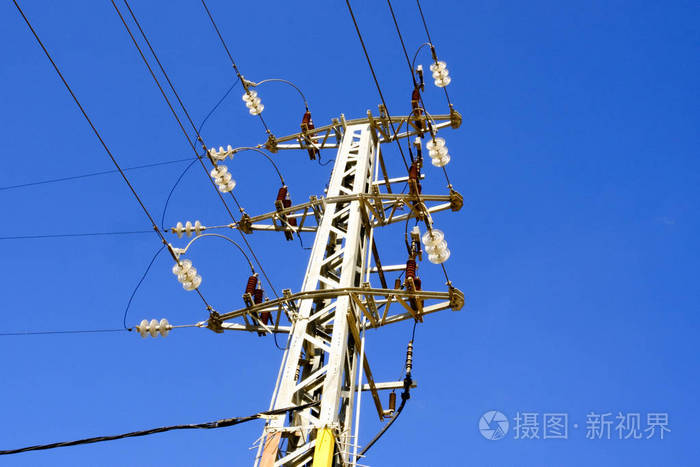insulator: (174, 258, 203, 294), (422, 229, 449, 266), (428, 137, 452, 168), (211, 164, 237, 192), (240, 90, 264, 117), (430, 62, 454, 89), (138, 318, 170, 338), (175, 217, 203, 238), (210, 144, 235, 163)
